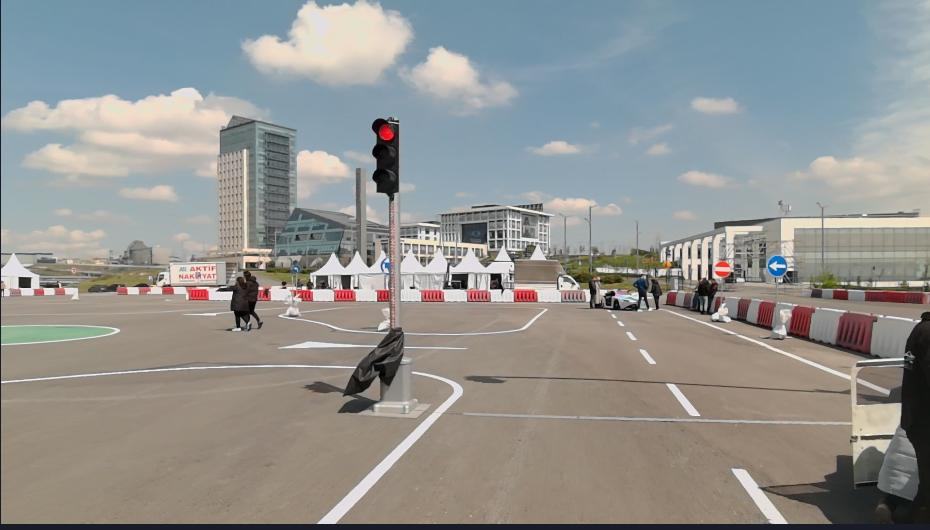nesne: (315, 300, 929, 529), (312, 297, 788, 522), (604, 292, 928, 529), (316, 366, 466, 522), (662, 307, 890, 397), (844, 311, 929, 528), (0, 362, 357, 388), (788, 305, 914, 357), (403, 305, 552, 336), (731, 466, 788, 526), (399, 286, 584, 300), (277, 311, 389, 334), (372, 116, 402, 198), (810, 287, 927, 307), (155, 259, 235, 285), (871, 313, 917, 357), (837, 309, 876, 358), (513, 260, 580, 288), (725, 294, 776, 327), (239, 268, 262, 328), (807, 309, 843, 345), (296, 288, 388, 301), (668, 382, 703, 416), (230, 275, 250, 332), (866, 289, 926, 304), (788, 305, 815, 338), (281, 339, 377, 348), (602, 287, 639, 310), (770, 306, 792, 337), (752, 300, 774, 328), (633, 272, 650, 307), (8, 286, 80, 294), (587, 271, 603, 306), (116, 286, 185, 294), (647, 275, 662, 309), (767, 254, 788, 277), (707, 275, 720, 312), (710, 300, 731, 322), (376, 305, 392, 330), (699, 276, 710, 312), (401, 344, 467, 350), (746, 299, 761, 325), (734, 298, 750, 321), (712, 258, 731, 276), (488, 287, 514, 300), (725, 296, 740, 318), (465, 288, 489, 300), (443, 287, 465, 300), (638, 347, 658, 361), (311, 288, 334, 300), (514, 288, 537, 300), (270, 287, 289, 301), (209, 288, 231, 300), (332, 288, 354, 300), (354, 288, 376, 300), (399, 287, 421, 299), (420, 289, 444, 300), (558, 290, 584, 300), (285, 297, 299, 313), (186, 290, 208, 300), (846, 289, 866, 300), (380, 254, 392, 271), (538, 290, 558, 300), (673, 290, 684, 306), (666, 289, 676, 306), (374, 289, 390, 299), (299, 289, 313, 300), (819, 288, 833, 299), (832, 289, 847, 299), (624, 329, 637, 340), (256, 289, 268, 298), (64, 287, 79, 294), (9, 287, 22, 295), (149, 286, 162, 294), (173, 287, 186, 294), (684, 292, 690, 307), (21, 288, 33, 295), (33, 288, 44, 295), (129, 287, 140, 294), (811, 288, 820, 296), (161, 288, 172, 294), (116, 288, 128, 293), (141, 286, 149, 293), (44, 288, 53, 294), (54, 289, 64, 294)
